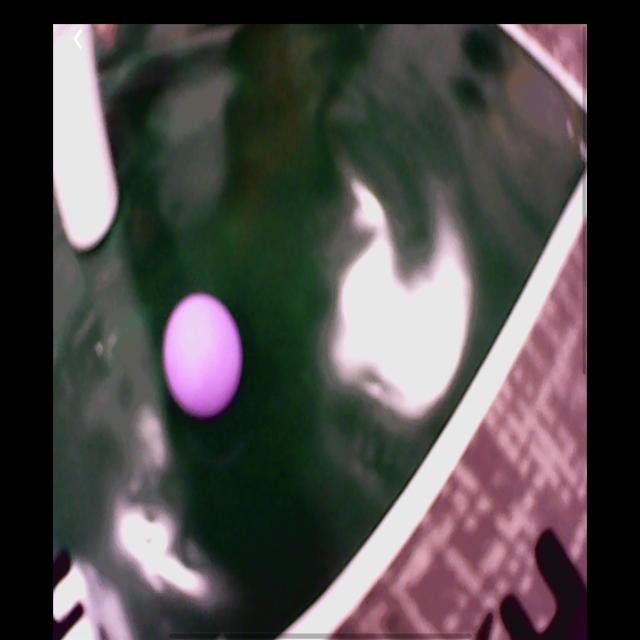ball: (163, 295, 243, 416)
